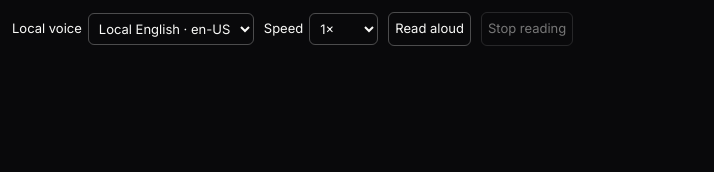
Test: explicit local notebook read aloud › preserves text and Unicode through bounded sequential utterances
Select "1.25×" in the dropdown named "Read-aloud speed": (344, 29) [309,13,378,45]
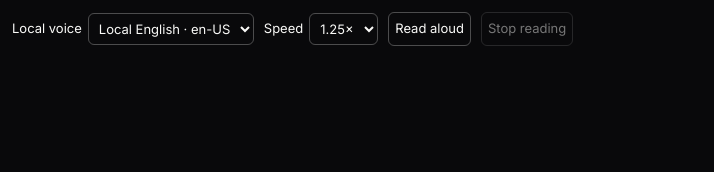
Click the button "Read aloud": (430, 29) [388,12,471,46]
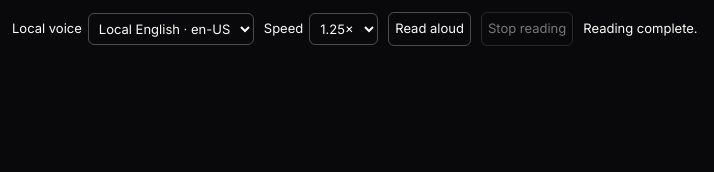
Expected: the text "Reading complete." is shown, [583,19,698,38]
